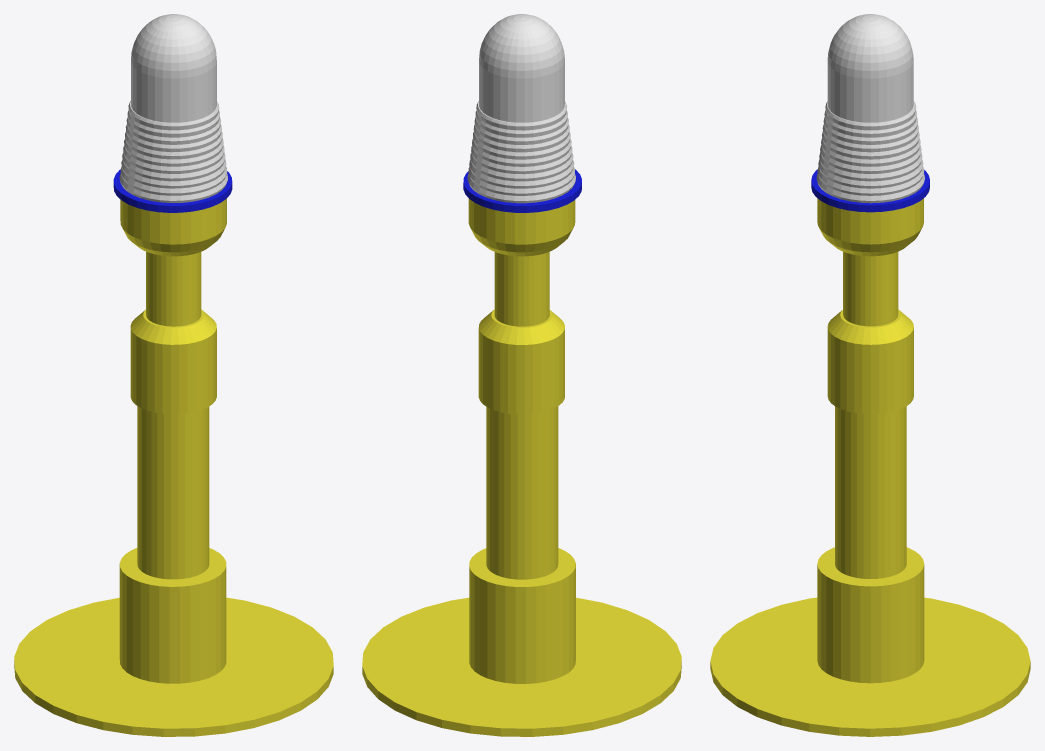
Rendered from TaxiwayEdgeGlow.fbx.
The picture shows the model from 3 angles, left to right: view 1: azimuth 30°, elevation 25°; view 2: azimuth 150°, elevation 25°; view 3: azimuth 270°, elevation 25°; orthographic projection.
Parts seen in each view (by area): view 1: support6, light.001, lightbase1; view 2: support6, light.001, lightbase1; view 3: support6, light.001, lightbase1.
Boxes of the visible parts, left/top/right/bottom form: support6: left=14, top=198, right=333, bottom=736; light.001: left=119, top=14, right=227, bottom=202; lightbase1: left=113, top=169, right=232, bottom=212; support6: left=362, top=198, right=681, bottom=736; light.001: left=467, top=14, right=575, bottom=203; lightbase1: left=463, top=169, right=581, bottom=212; support6: left=710, top=198, right=1030, bottom=736; light.001: left=816, top=14, right=924, bottom=203; lightbase1: left=811, top=169, right=929, bottom=212.
Bounding box in the file's own units: 315 × 708 × 315.
